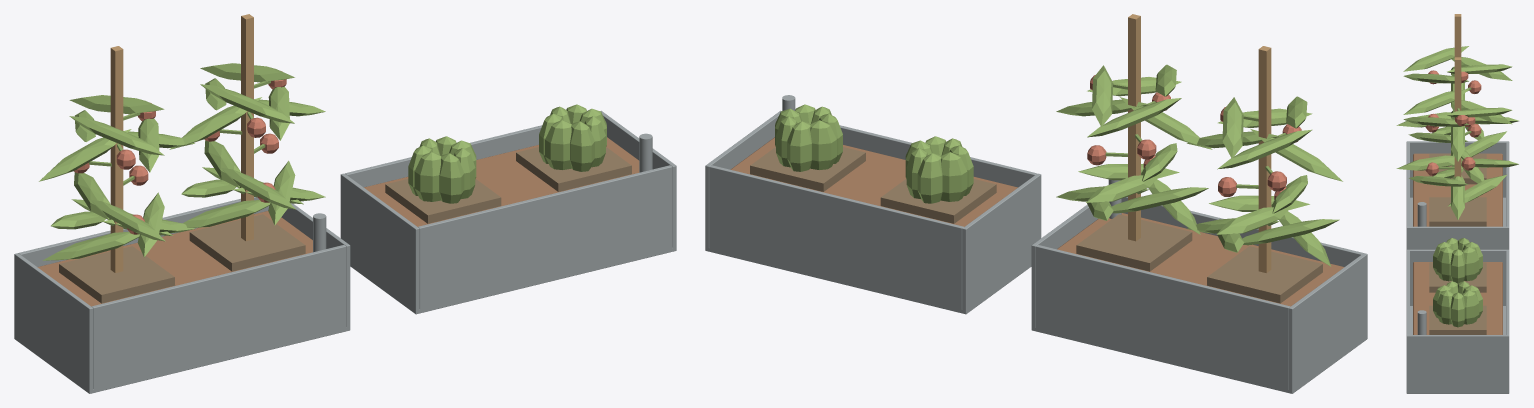
Rendered from survival-greenhouse-and-irrigation-canonical-crop-grow-7a219bd2__21348.glb.
The picture shows the model from 3 angles, left to right: view 1: azimuth 30°, elevation 25°; view 2: azimuth 150°, elevation 25°; view 3: azimuth 270°, elevation 25°; orthographic projection. The views are drawn at different scales.
Visible parts, largest first — view 1: 001-wicking-grow-bed/0, 000-wicking-grow-bed/0, 002-cozy-farm-and-homestead--tomato-mature/2, 003-cozy-farm-and-homestead--tomato-mature/2, 000-wicking-grow-bed/1, 001-wicking-grow-bed/1, 004-cozy-farm-and-homestead--lettuce-mature/0, 005-cozy-farm-and-homestead--lettuce-mature/0, 002-cozy-farm-and-homestead--tomato-mature/3, 003-cozy-farm-and-homestead--tomato-mature/3, 004-cozy-farm-and-homestead--lettuce-mature/1, 002-cozy-farm-and-homestead--tomato-mature/0 (+4 smaller); view 2: 001-wicking-grow-bed/0, 000-wicking-grow-bed/0, 002-cozy-farm-and-homestead--tomato-mature/2, 003-cozy-farm-and-homestead--tomato-mature/2, 000-wicking-grow-bed/1, 001-wicking-grow-bed/1, 004-cozy-farm-and-homestead--lettuce-mature/0, 005-cozy-farm-and-homestead--lettuce-mature/0, 002-cozy-farm-and-homestead--tomato-mature/3, 003-cozy-farm-and-homestead--tomato-mature/3, 002-cozy-farm-and-homestead--tomato-mature/0, 004-cozy-farm-and-homestead--lettuce-mature/1 (+4 smaller); view 3: 001-wicking-grow-bed/0, 003-cozy-farm-and-homestead--tomato-mature/2, 000-wicking-grow-bed/0, 002-cozy-farm-and-homestead--tomato-mature/2, 001-wicking-grow-bed/1, 000-wicking-grow-bed/1, 005-cozy-farm-and-homestead--lettuce-mature/0, 004-cozy-farm-and-homestead--lettuce-mature/0, 003-cozy-farm-and-homestead--tomato-mature/3, 005-cozy-farm-and-homestead--lettuce-mature/1, 003-cozy-farm-and-homestead--tomato-mature/1, 004-cozy-farm-and-homestead--lettuce-mature/1 (+4 smaller).
Boxes of the visible parts, x1=… form: 001-wicking-grow-bed/0: x1=340, y1=110, x2=676, y2=314; 000-wicking-grow-bed/0: x1=14, y1=197, x2=350, y2=393; 002-cozy-farm-and-homestead--tomato-mature/2: x1=39, y1=95, x2=194, y2=260; 003-cozy-farm-and-homestead--tomato-mature/2: x1=169, y1=63, x2=325, y2=227; 000-wicking-grow-bed/1: x1=37, y1=211, x2=312, y2=306; 001-wicking-grow-bed/1: x1=364, y1=137, x2=639, y2=226; 004-cozy-farm-and-homestead--lettuce-mature/0: x1=408, y1=136, x2=476, y2=203; 005-cozy-farm-and-homestead--lettuce-mature/0: x1=539, y1=104, x2=606, y2=171; 002-cozy-farm-and-homestead--tomato-mature/3: x1=59, y1=246, x2=174, y2=303; 003-cozy-farm-and-homestead--tomato-mature/3: x1=189, y1=214, x2=305, y2=271; 004-cozy-farm-and-homestead--lettuce-mature/1: x1=385, y1=179, x2=501, y2=223; 002-cozy-farm-and-homestead--tomato-mature/0: x1=110, y1=46, x2=123, y2=272; 001-wicking-grow-bed/0: x1=705, y1=95, x2=1041, y2=314; 000-wicking-grow-bed/0: x1=1031, y1=179, x2=1367, y2=393; 002-cozy-farm-and-homestead--tomato-mature/2: x1=1187, y1=96, x2=1342, y2=266; 003-cozy-farm-and-homestead--tomato-mature/2: x1=1056, y1=64, x2=1212, y2=234; 000-wicking-grow-bed/1: x1=1057, y1=213, x2=1344, y2=306; 001-wicking-grow-bed/1: x1=730, y1=137, x2=1017, y2=226; 004-cozy-farm-and-homestead--lettuce-mature/0: x1=905, y1=136, x2=973, y2=203; 005-cozy-farm-and-homestead--lettuce-mature/0: x1=775, y1=104, x2=842, y2=171; 002-cozy-farm-and-homestead--tomato-mature/3: x1=1207, y1=246, x2=1322, y2=303; 003-cozy-farm-and-homestead--tomato-mature/3: x1=1076, y1=214, x2=1192, y2=271; 002-cozy-farm-and-homestead--tomato-mature/0: x1=1258, y1=46, x2=1271, y2=272; 004-cozy-farm-and-homestead--lettuce-mature/1: x1=880, y1=179, x2=996, y2=223; 001-wicking-grow-bed/0: x1=1406, y1=249, x2=1509, y2=393; 003-cozy-farm-and-homestead--tomato-mature/2: x1=1396, y1=89, x2=1518, y2=219; 000-wicking-grow-bed/0: x1=1406, y1=141, x2=1509, y2=249; 002-cozy-farm-and-homestead--tomato-mature/2: x1=1396, y1=46, x2=1518, y2=168; 001-wicking-grow-bed/1: x1=1413, y1=262, x2=1502, y2=334; 000-wicking-grow-bed/1: x1=1413, y1=153, x2=1502, y2=226; 005-cozy-farm-and-homestead--lettuce-mature/0: x1=1433, y1=281, x2=1482, y2=327; 004-cozy-farm-and-homestead--lettuce-mature/0: x1=1433, y1=238, x2=1482, y2=283; 003-cozy-farm-and-homestead--tomato-mature/3: x1=1429, y1=197, x2=1486, y2=226; 005-cozy-farm-and-homestead--lettuce-mature/1: x1=1429, y1=305, x2=1486, y2=334; 003-cozy-farm-and-homestead--tomato-mature/1: x1=1425, y1=113, x2=1481, y2=175; 004-cozy-farm-and-homestead--lettuce-mature/1: x1=1429, y1=262, x2=1486, y2=292.
Bounding box in the file's own units: 3.68 × 1.77 × 0.9652.
